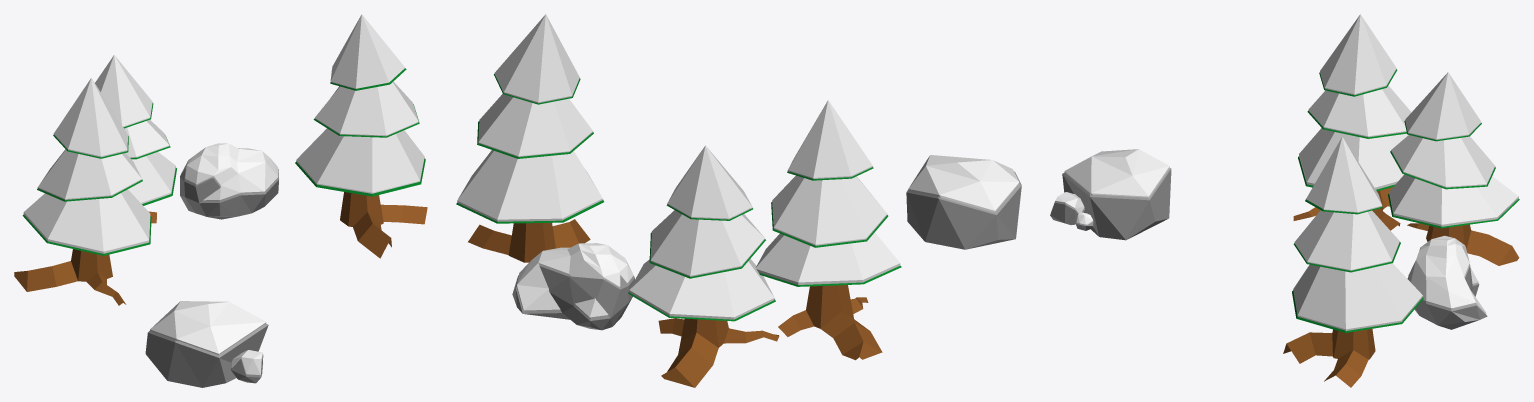
Rendered from snow_Trees.fbx.
3 views of the same model, side by side, from view 1: azimuth 30°, elevation 25°; view 2: azimuth 150°, elevation 25°; view 3: azimuth 270°, elevation 25° (orthographic). The views are drawn at different scales.
Visible parts, largest first — view 1: Cylinder003, Cylinder001, Cylinder002, GeoSphere006, GeoSphere001, GeoSphere009, GeoSphere002, GeoSphere008, GeoSphere004; view 2: Cylinder003, Cylinder001, Cylinder002, GeoSphere001, GeoSphere009, GeoSphere006, GeoSphere002; view 3: Cylinder003, Cylinder002, Cylinder001, GeoSphere001, GeoSphere009, GeoSphere006, GeoSphere002, GeoSphere004.
Boxes of the visible parts, x1,y1,x2,y2 form: Cylinder003: (295, 14, 427, 258); Cylinder001: (14, 78, 151, 305); Cylinder002: (95, 55, 176, 223); GeoSphere006: (150, 301, 266, 355); GeoSphere001: (145, 323, 268, 387); GeoSphere009: (181, 143, 278, 200); GeoSphere002: (180, 168, 278, 219); GeoSphere008: (231, 350, 262, 375); GeoSphere004: (230, 354, 263, 383); Cylinder003: (456, 14, 603, 262); Cylinder001: (755, 100, 901, 360); Cylinder002: (628, 145, 779, 387); GeoSphere001: (906, 171, 1021, 249); GeoSphere009: (517, 243, 633, 318); GeoSphere006: (908, 155, 1019, 212); GeoSphere002: (512, 266, 634, 330); Cylinder003: (1283, 136, 1423, 387); Cylinder002: (1388, 72, 1519, 265); Cylinder001: (1293, 14, 1411, 230); GeoSphere001: (1062, 168, 1171, 240); GeoSphere009: (1408, 235, 1486, 313); GeoSphere006: (1064, 149, 1169, 197); GeoSphere002: (1407, 264, 1487, 329); GeoSphere004: (1050, 202, 1085, 224).
Bounding box in the file's own units: 1465 × 809 × 1538.
